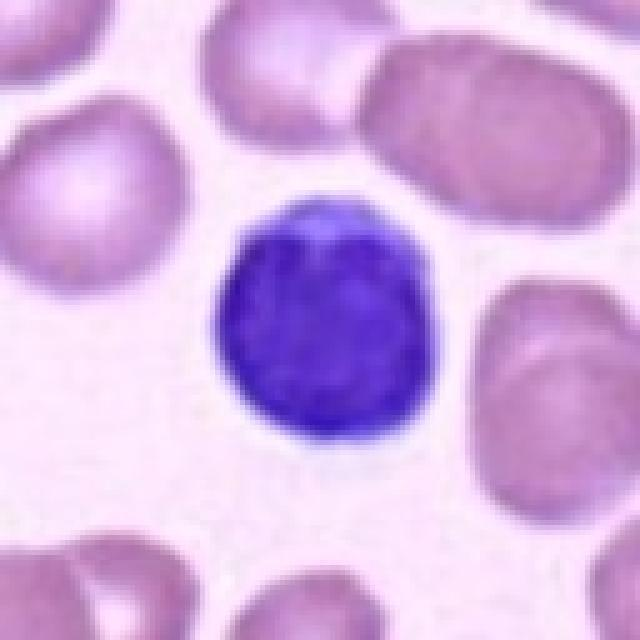lympho: (206, 185, 450, 457)
